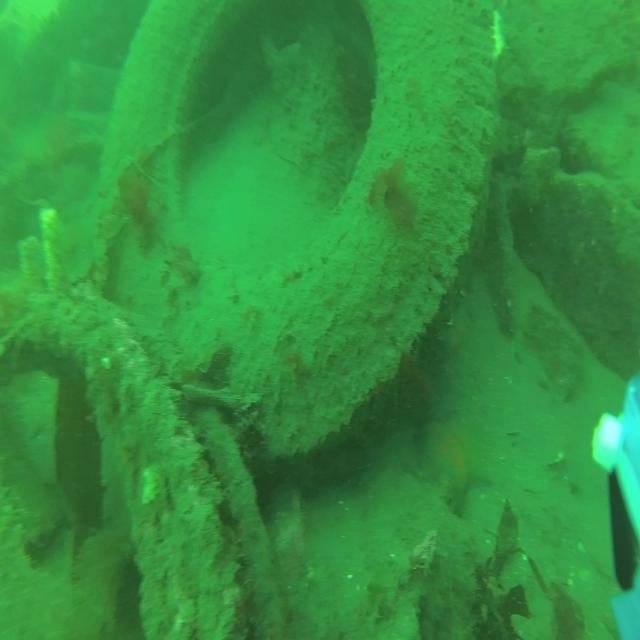holothurian: (491, 11, 507, 60)
starfish: (415, 416, 498, 508), (442, 298, 486, 380)
